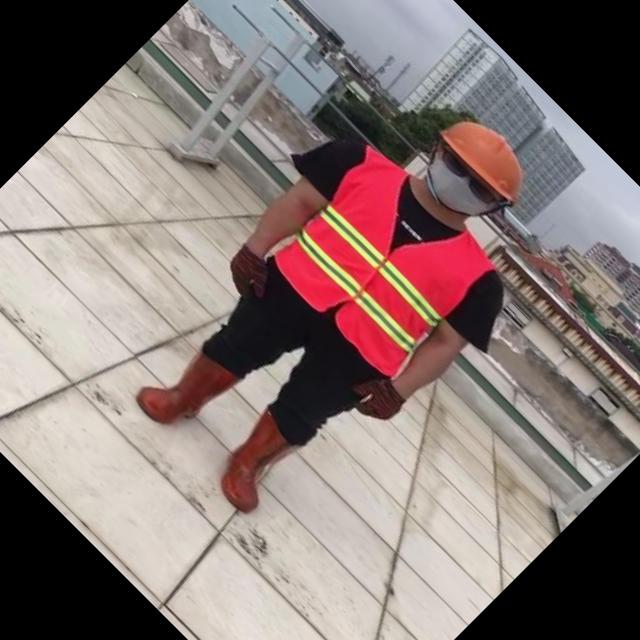hard_hat: (428, 97, 542, 211)
safety_vest: (262, 142, 500, 382)
vehicle: (80, 38, 600, 558)
work_boots: (199, 404, 312, 517), (131, 335, 240, 444)
